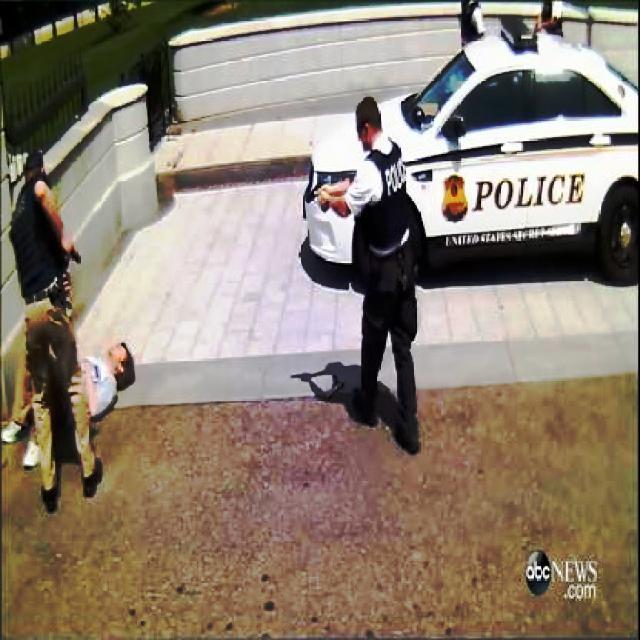Gun: (292, 166, 351, 222)
